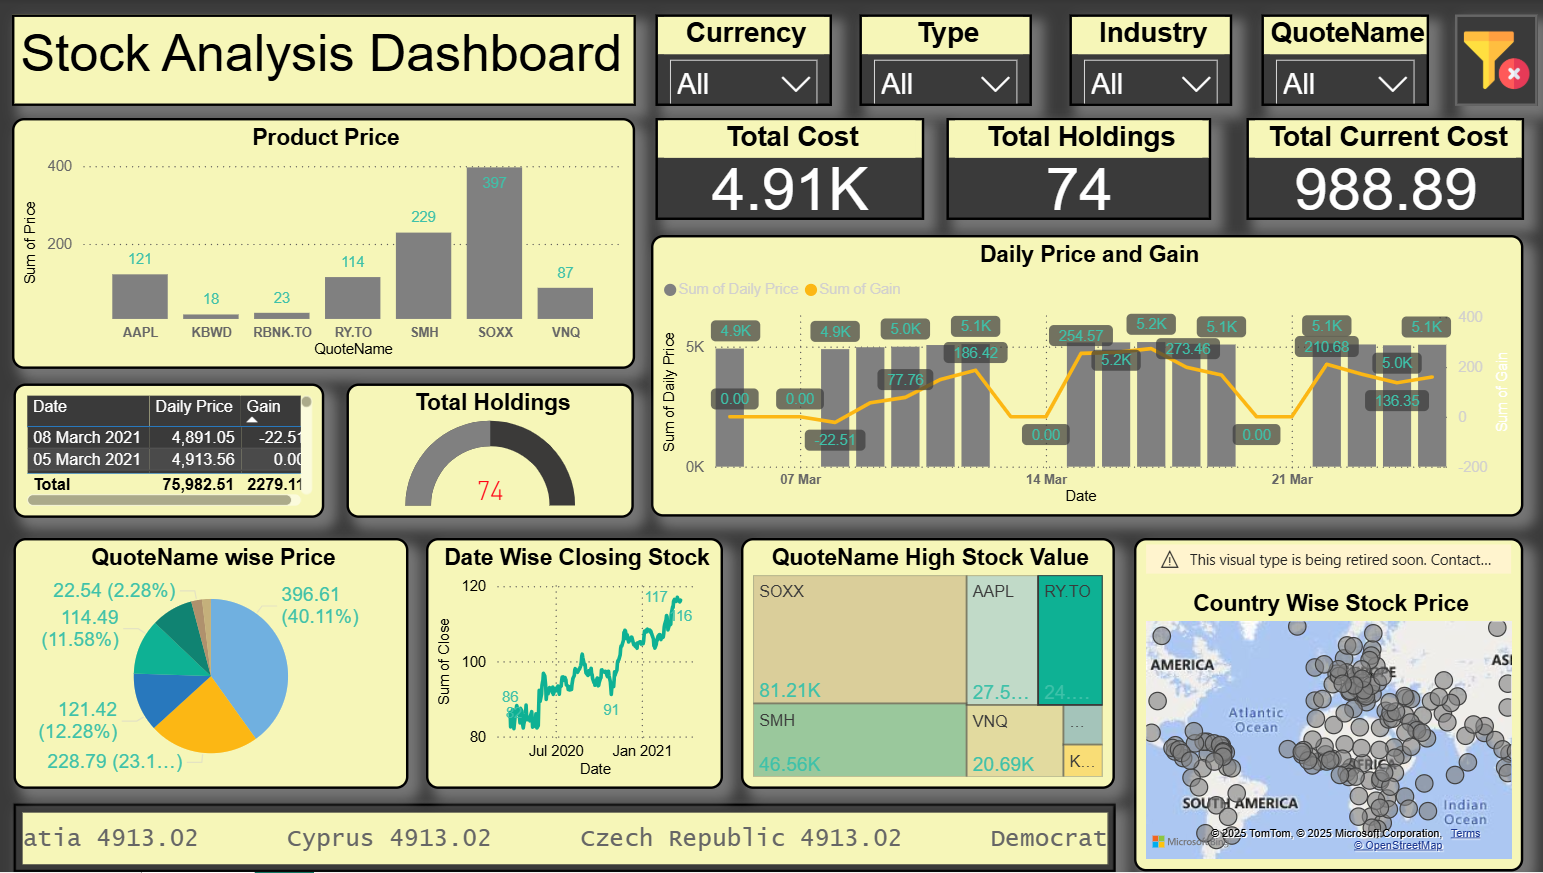

This screenshot's page, from the dashboard's own definition file:
{"tool":"powerbi","page":{"name":"Dashboard","canvas":[1280,720],"ordinal":0},"visuals":[{"type":"textbox","box":[9.4,13.2,514,75.6],"z":0},{"type":"slicer","title":"Currency","fields":{"Values":["Type.Currency"]},"box":[540.5,13.2,145.5,75.6],"z":1000},{"type":"slicer","title":"Type","fields":{"Values":["Type.Type"]},"box":[708.7,13.2,141.7,75.6],"z":2000},{"type":"slicer","title":"Industry","fields":{"Values":["Type.Industry"]},"box":[880.6,13.2,134.2,75.6],"z":3000},{"type":"slicer","title":"QuoteName","fields":{"Values":["Type.QuoteName"]},"box":[1039.4,13.2,138,75.6],"z":4000},{"type":"image","box":[1198.1,13.2,68,75.6],"z":5000},{"type":"clusteredColumnChart","title":"Product Price","fields":{"Category":["Holdings.QuoteName"],"Y":["Sum(Holdings.Price)"]},"box":[9.5,99.5,513.2,206.8],"z":6000},{"type":"card","title":"Total Cost","fields":{"Values":["Sum(Holdings.Cost)"]},"box":[540,99.5,221.1,83.7],"z":7000},{"type":"card","title":"Total Holdings","fields":{"Values":["Sum(Holdings.Holdings)"]},"box":[780,99.5,217.9,83.7],"z":8000},{"type":"card","title":"Total Current Cost","fields":{"Values":["Sum(Holdings.Price)"]},"box":[1026.3,99.5,229,83.7],"z":9000},{"type":"lineClusteredColumnComboChart","title":"Daily Price and Gain ","fields":{"Category":["Dailygain.Date"],"Y":["Sum(Dailygain.Daily Price)"],"Y2":["Sum(Dailygain.Gain)"]},"box":[536.8,195.8,718.4,232.1],"z":10000},{"type":"tableEx","fields":{"Values":["Dailygain.Date","Sum(Dailygain.Daily Price)","Sum(Dailygain.Gain)"]},"box":[11.1,317.4,255.8,110.5],"z":11000},{"type":"gauge","title":"Total Holdings","fields":{"Y":["Sum(Holdings.Holdings)"]},"box":[285.8,317.4,236.8,110.5],"z":12000},{"type":"map","title":" Country Wise Stock Price","fields":{"Category":["CountryNames.Country"],"Size":["Sum(Holdings.Price)"]},"box":[934.7,445.3,320.5,274.7],"z":13000},{"type":"ScrollingTextVisual1448795304508","fields":{"Category":["CountryNames.Country"],"Measure Absolute":["Sum(Holdings.Cost)"]},"box":[11.1,663.2,907.9,56.8],"z":14000},{"type":"pieChart","title":"QuoteName wise Price","fields":{"Y":["Sum(Holdings.Price)"],"Category":["Holdings.QuoteName"]},"box":[11.1,445.3,325.3,206.8],"z":15000},{"type":"lineChart","title":"Date Wise Closing Stock","fields":{"Category":["Stocklist.Date"],"Y":["Sum(Stocklist.Close)"],"Series":["Stocklist.QuoteName"]},"box":[350.5,445.3,244.7,206.8],"z":16000},{"type":"treemap","title":"QuoteName High Stock Value","fields":{"Group":["Stocklist.QuoteName"],"Values":["Sum(Stocklist.High)"]},"box":[611.1,445.3,307.9,206.8],"z":17000}]}

Visuals, with their boxes in screenshot pixels (x1, y1, x2, y2), scaled from the page's 1280x720 canvas onto the 1543x873 screenshot:
textbox: BBox(11, 16, 631, 108)
"Currency" slicer: BBox(652, 16, 827, 108)
"Type" slicer: BBox(854, 16, 1025, 108)
"Industry" slicer: BBox(1062, 16, 1223, 108)
"QuoteName" slicer: BBox(1253, 16, 1419, 108)
image: BBox(1444, 16, 1526, 108)
"Product Price" clusteredColumnChart: BBox(11, 121, 630, 371)
"Total Cost" card: BBox(651, 121, 917, 222)
"Total Holdings" card: BBox(940, 121, 1203, 222)
"Total Current Cost" card: BBox(1237, 121, 1513, 222)
"Daily Price and Gain " lineClusteredColumnComboChart: BBox(647, 237, 1513, 519)
tableEx - Dailygain.Date x Sum(Dailygain.Daily Price): BBox(13, 385, 322, 519)
"Total Holdings" gauge: BBox(345, 385, 630, 519)
" Country Wise Stock Price" map: BBox(1127, 540, 1513, 872)
ScrollingTextVisual1448795304508 - CountryNames.Country x Sum(Holdings.Cost): BBox(13, 804, 1108, 872)
"QuoteName wise Price" pieChart: BBox(13, 540, 406, 791)
"Date Wise Closing Stock" lineChart: BBox(423, 540, 717, 791)
"QuoteName High Stock Value" treemap: BBox(737, 540, 1108, 791)
